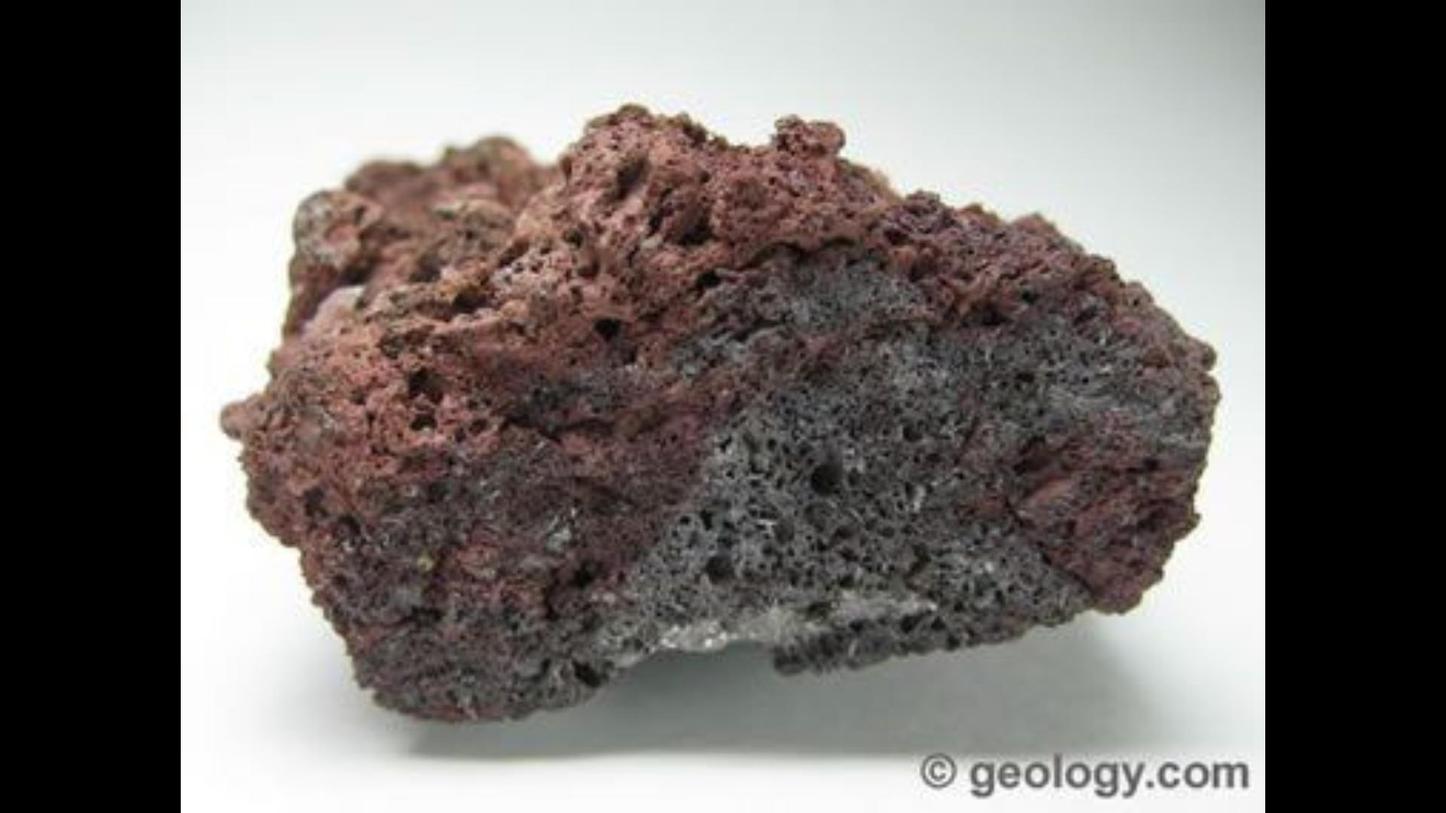rock: (224, 108, 1217, 713)
